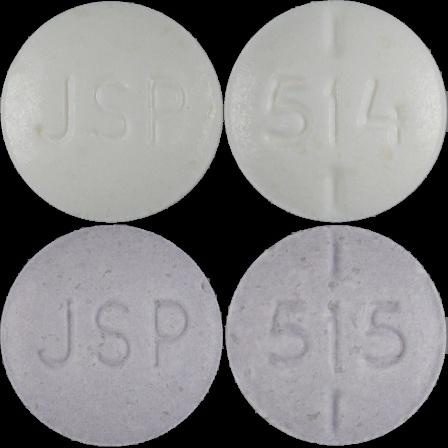51138-041: (0, 0, 224, 224)
